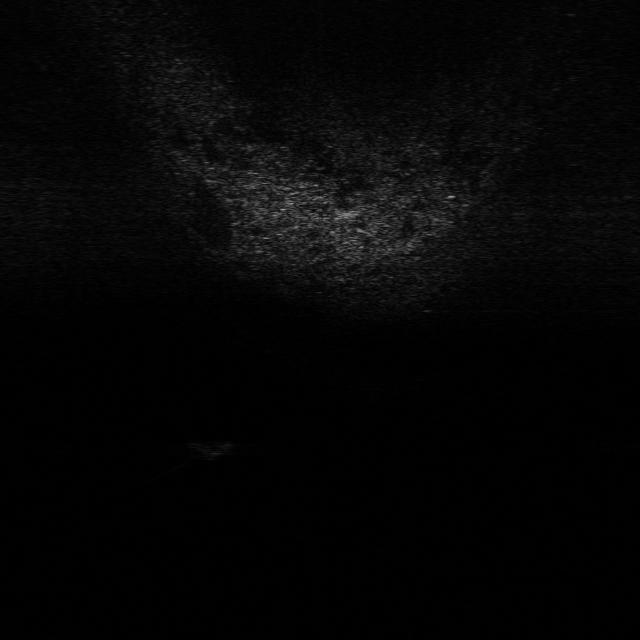cube: (186, 438, 236, 462)
